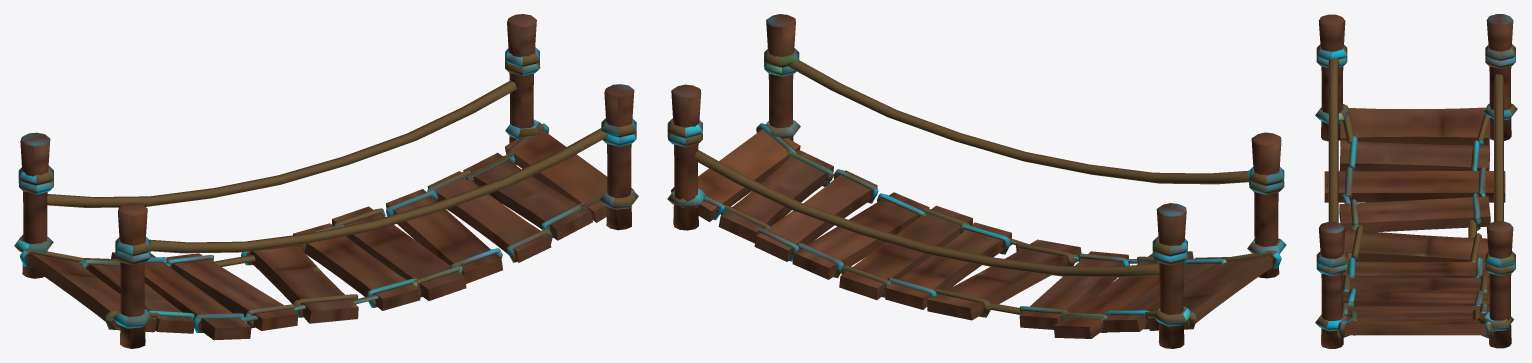
File: Bridge.fbx
3 renders of one model, left to right at view 1: azimuth 30°, elevation 25°; view 2: azimuth 150°, elevation 25°; view 3: azimuth 270°, elevation 25°, orthographic. The views are drawn at different scales.
Visible parts, largest first — view 1: Bridge; view 2: Bridge; view 3: Bridge.
Boxes of the visible parts, x1,y1,x2,y2 form: Bridge: [14, 14, 638, 348]; Bridge: [667, 14, 1286, 348]; Bridge: [1315, 14, 1517, 348].
Bounding box in the file's own units: 64.41 × 19.95 × 24.54.
